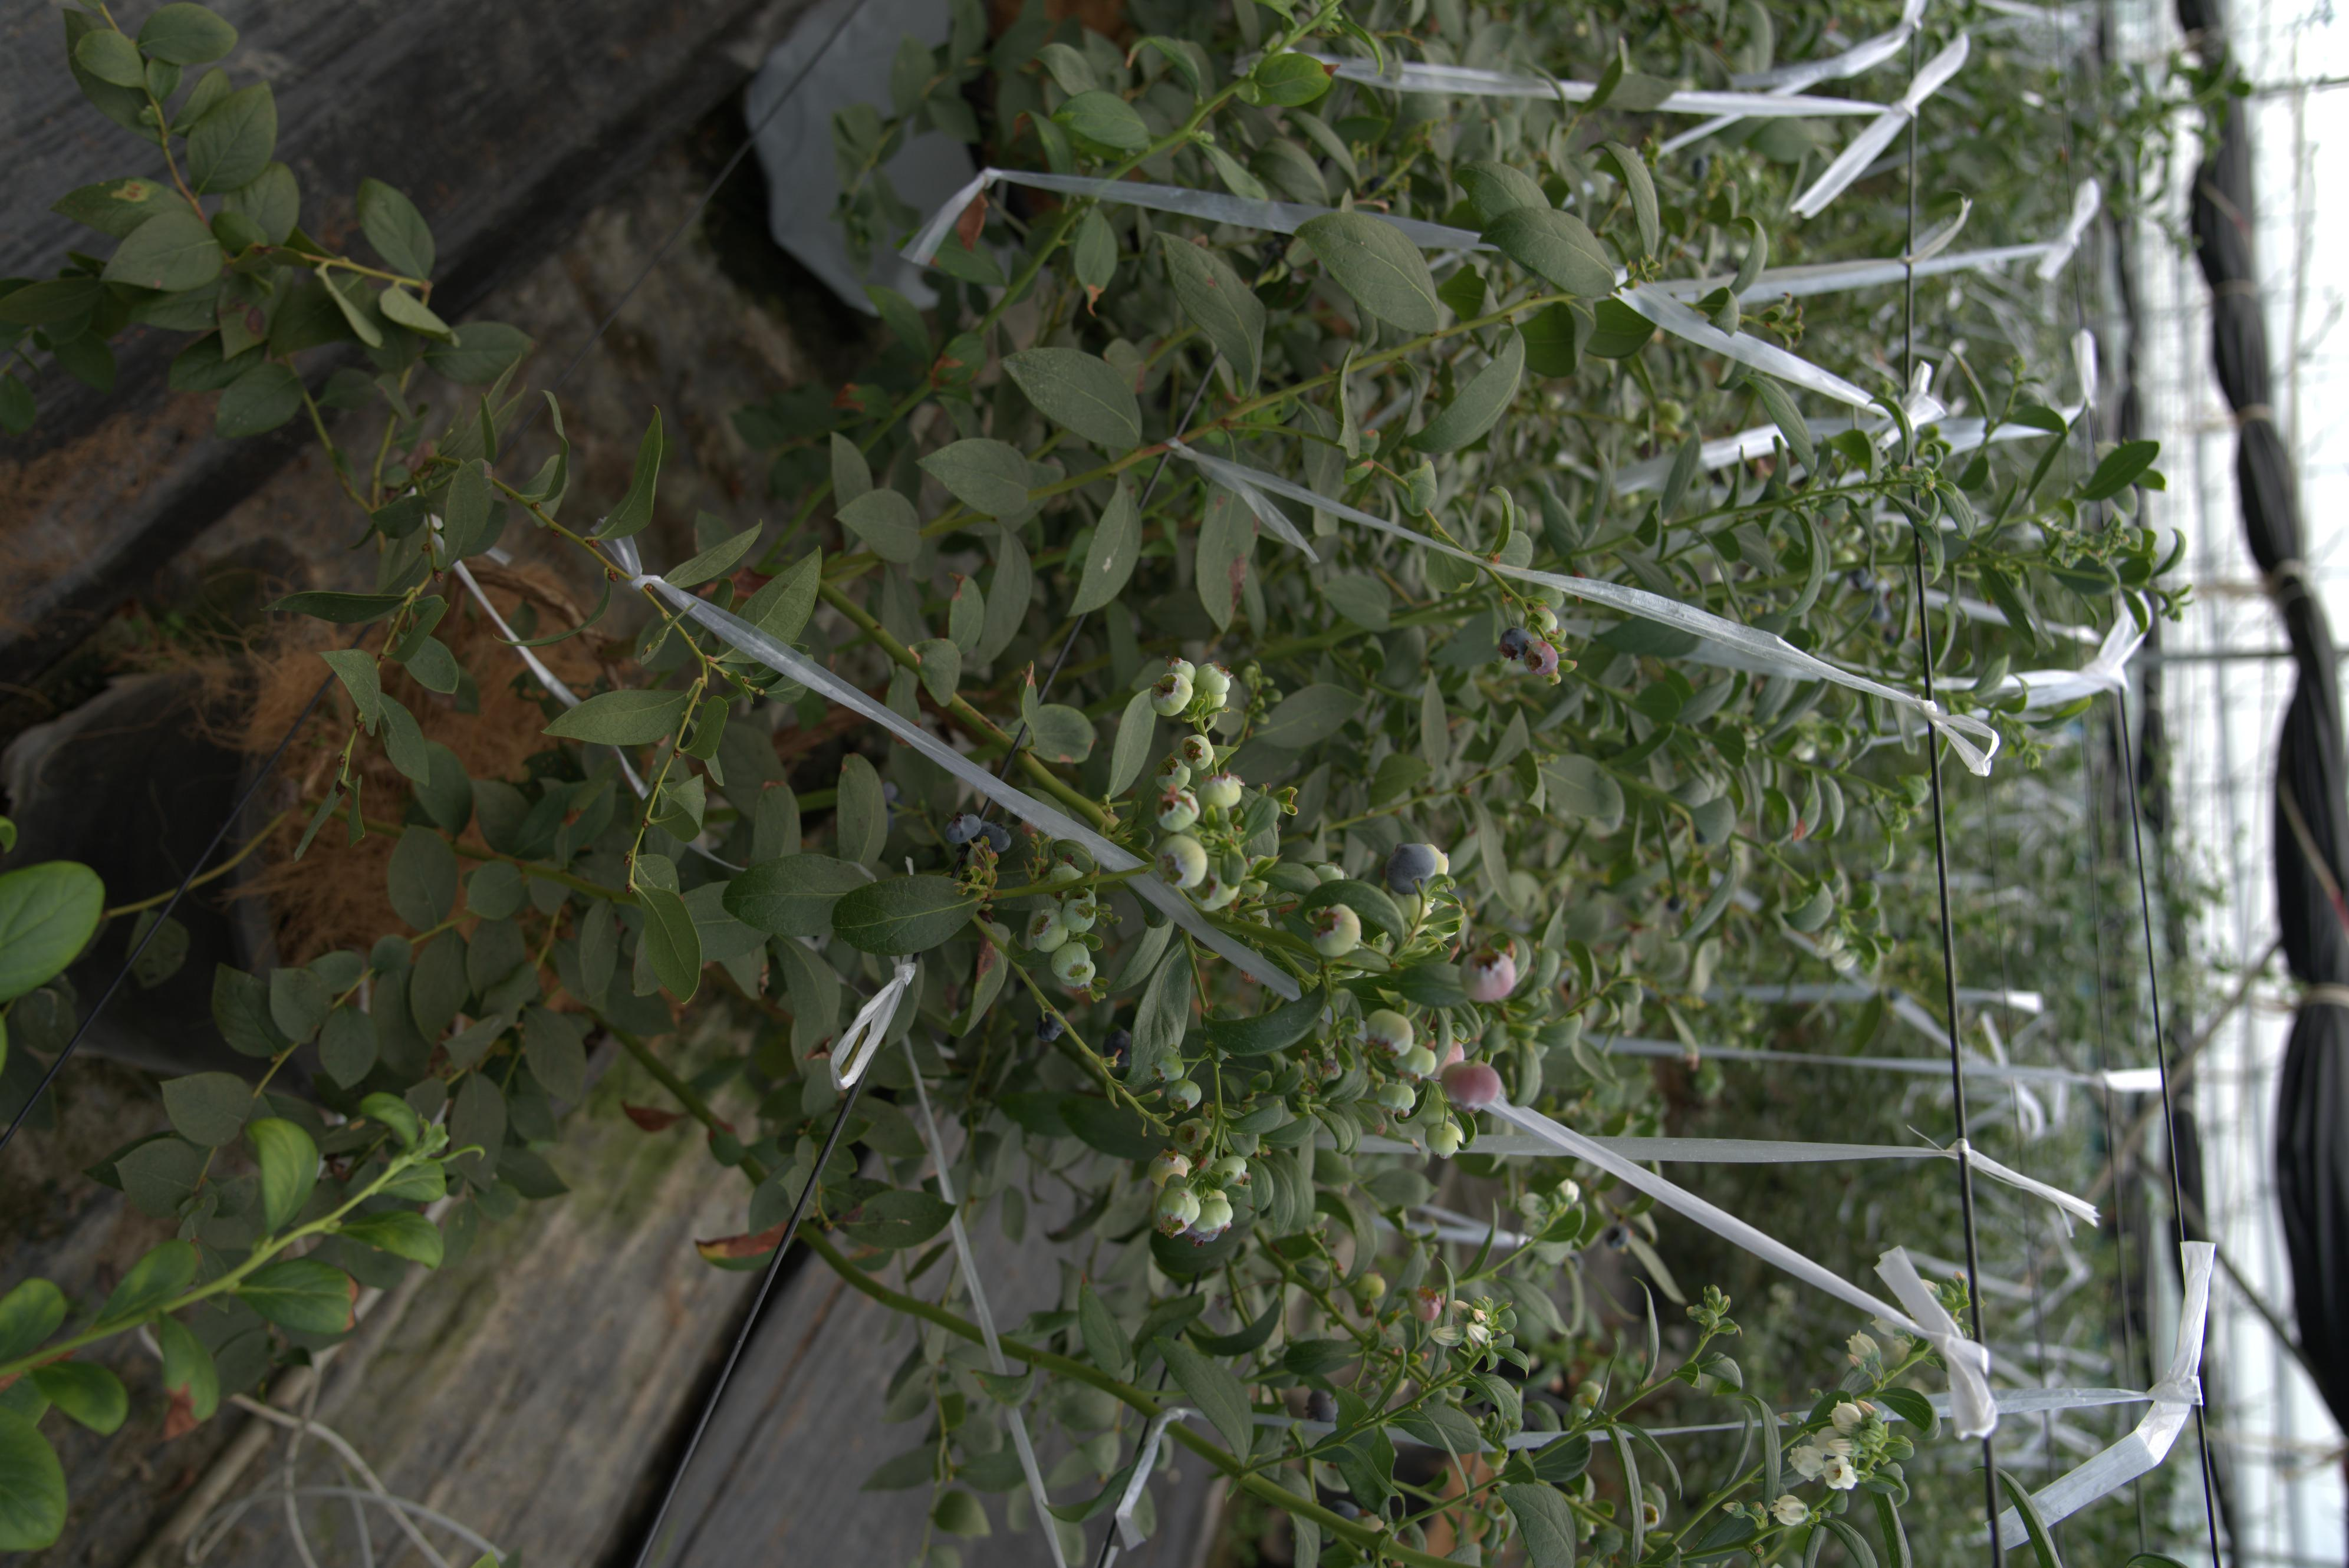ripe-blueberries: (1264, 610, 1340, 642), (1216, 914, 1266, 940), (961, 526, 1011, 549), (2084, 673, 2130, 696), (1514, 857, 1563, 877), (940, 548, 984, 567), (1233, 894, 1271, 910)
semi-ripe-blueberries: (1597, 566, 1664, 607), (1256, 766, 1339, 798), (1357, 660, 1433, 694), (1782, 770, 1857, 801), (1419, 562, 1499, 588), (1510, 625, 1584, 654), (1012, 772, 1080, 802), (1294, 743, 1366, 769), (1359, 859, 1423, 883), (1135, 774, 1190, 802), (1407, 840, 1465, 867), (1800, 746, 1855, 772), (1192, 770, 1242, 798), (1160, 739, 1210, 766), (1673, 760, 1726, 786), (1686, 591, 1735, 616), (1727, 773, 1770, 801), (1624, 623, 1667, 651), (993, 746, 1039, 770), (1618, 766, 1663, 790), (1444, 832, 1483, 858), (1570, 775, 1612, 799), (1344, 836, 1396, 855), (1100, 759, 1153, 778), (1575, 611, 1612, 636)
